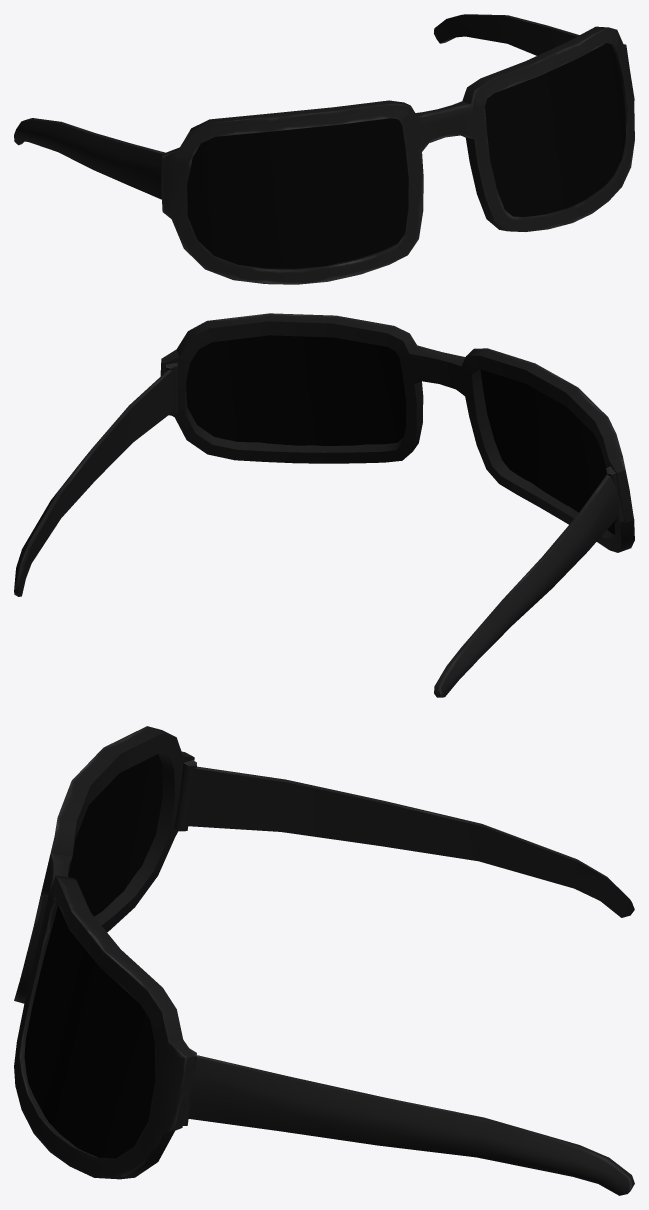
File: Glasses.FBX
3 views of the same model, one above another, from view 1: azimuth 30°, elevation 25°; view 2: azimuth 150°, elevation 25°; view 3: azimuth 270°, elevation 25° (orthographic). The views are drawn at different scales.
Parts seen in each view (by area): view 1: Glasses; view 2: Glasses; view 3: Glasses.
Part boxes in pixels (x1=…): Glasses: x1=14, y1=14, x2=634, y2=284; Glasses: x1=14, y1=313, x2=634, y2=697; Glasses: x1=14, y1=726, x2=634, y2=1195.
Size of the model in its own units: 19.73 by 6.39 by 16.78.
